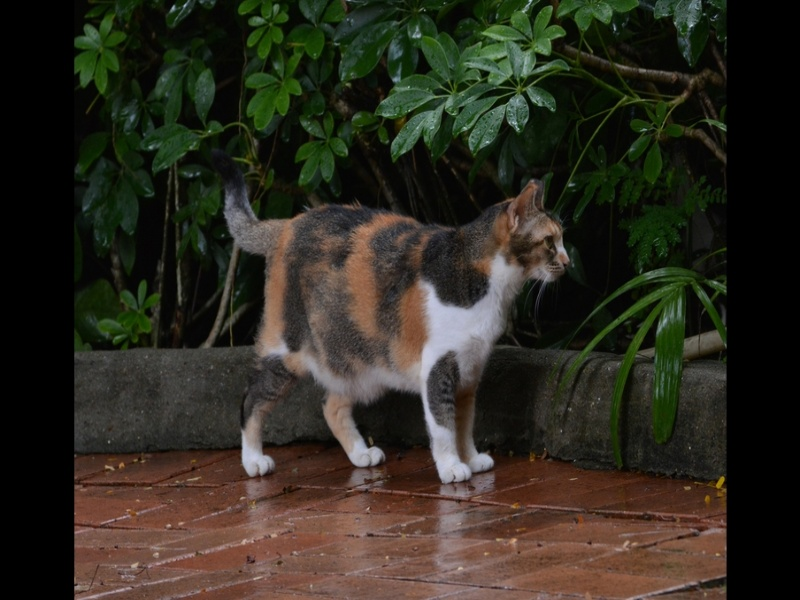cat: (211, 166, 571, 483)
